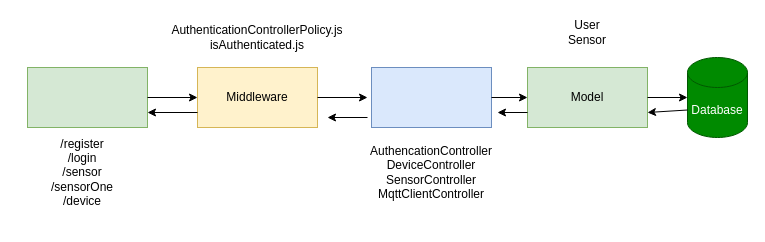
Some shapes in this 765 by 242 pixel diagram are drawn without their labels. The centre of each missing label's shape, as x and y in pixels:
"Controller" belongs at point (431, 97).
"Router" belongs at point (87, 97).
